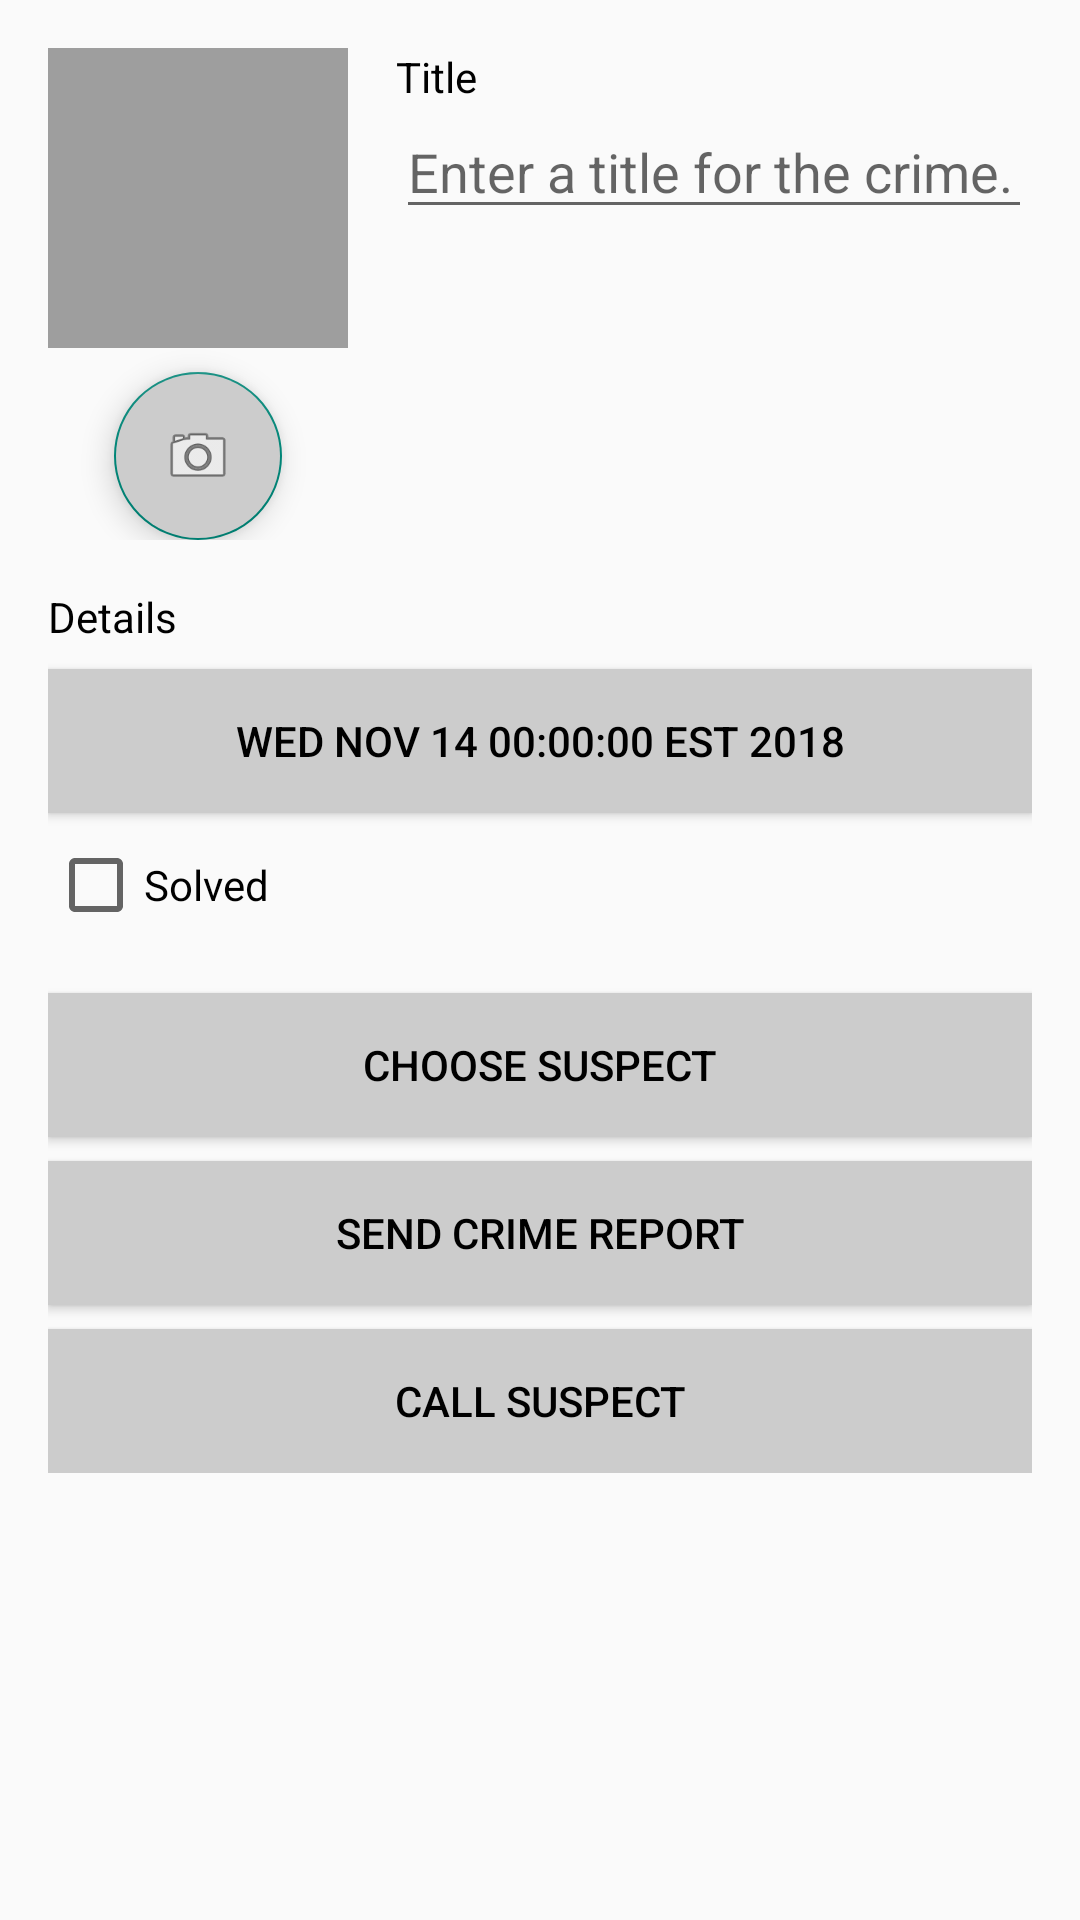

Icons on this 1080px×1920px Android screen, each with its box as (x1, y1, x2, y2):
camera: (114, 372, 282, 540)
